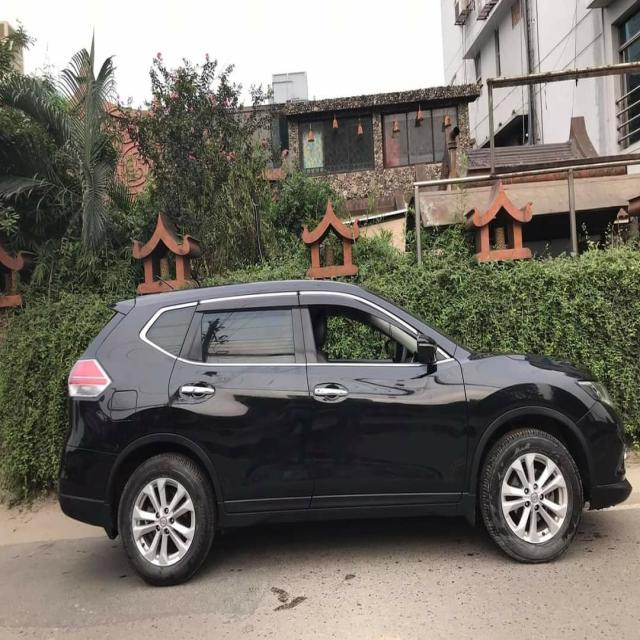black: (47, 287, 633, 581)
